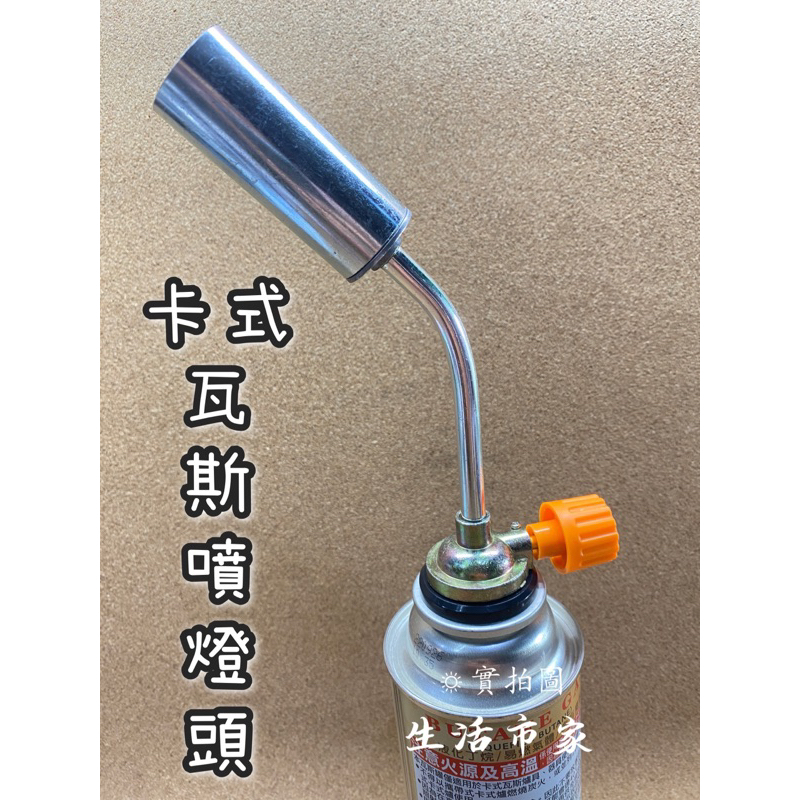gastorch: (154, 20, 623, 800)
